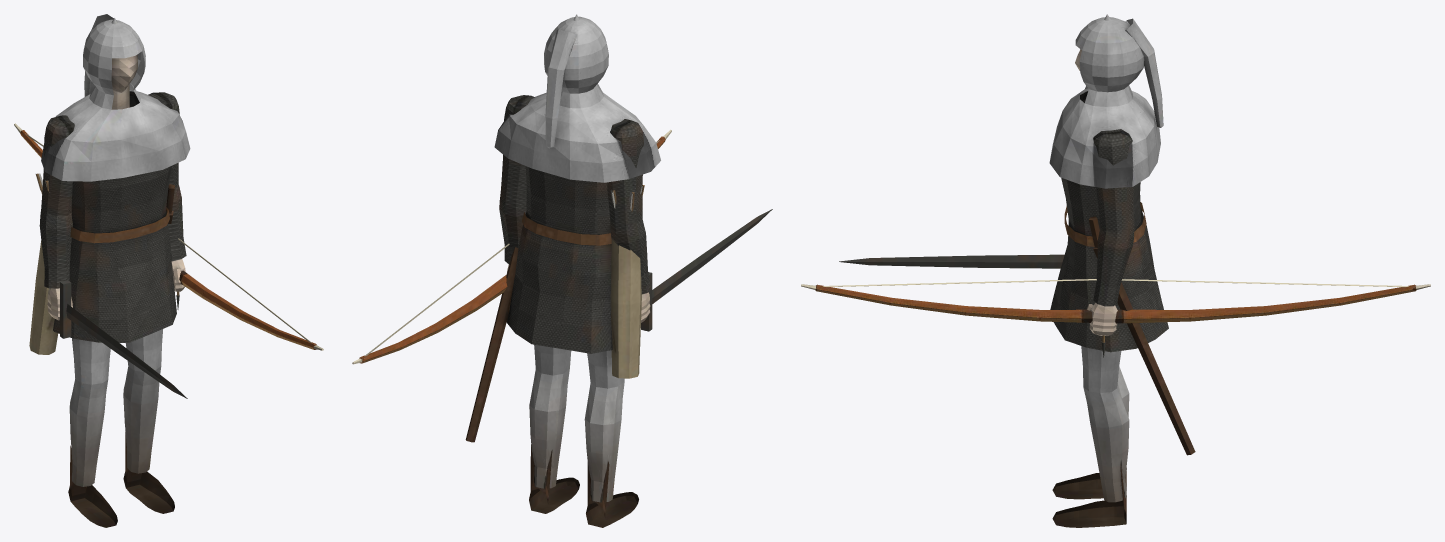
The model's file is elfarchers.glb.
3 renders of one model, left to right at view 1: azimuth 30°, elevation 25°; view 2: azimuth 150°, elevation 25°; view 3: azimuth 270°, elevation 25°, orthographic. The views are drawn at different scales.
Visible parts, largest first — view 1: elfarchers_LOD0; view 2: elfarchers_LOD0; view 3: elfarchers_LOD0.
Part boxes in pixels (box(x1,y1,x2,y2)): elfarchers_LOD0: box(14, 14, 323, 527); elfarchers_LOD0: box(352, 14, 772, 527); elfarchers_LOD0: box(801, 14, 1430, 527).
Size of what is drawn, in the model's own units: 0.5469 by 1.78 by 2.05.
Materials: 1 (1 with a texture image).
